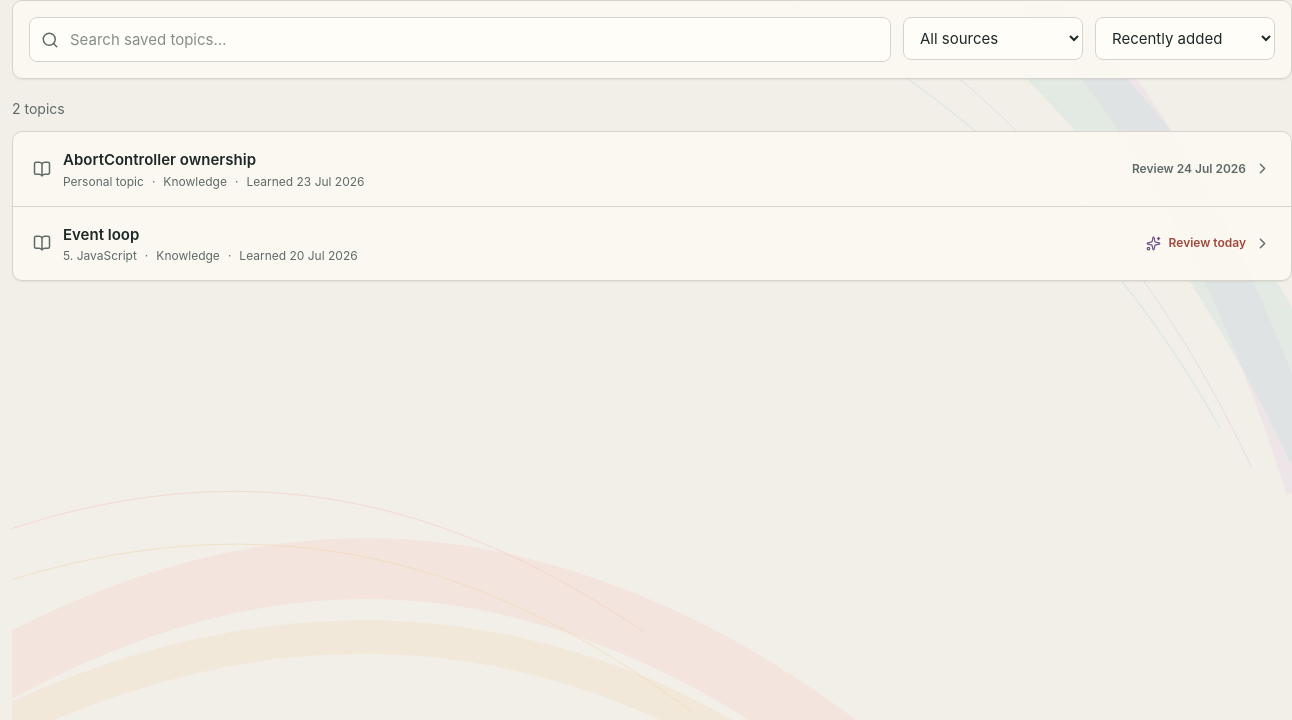
Test: TopicLibrary › searches saved topics independently of their source
The width and height of the screenshot is (1292, 720).
Type "event loop" into the field labelled "Search saved topics".
click(460, 40); type("event loop")  # box top-left (29, 17), bottom-right (891, 62)
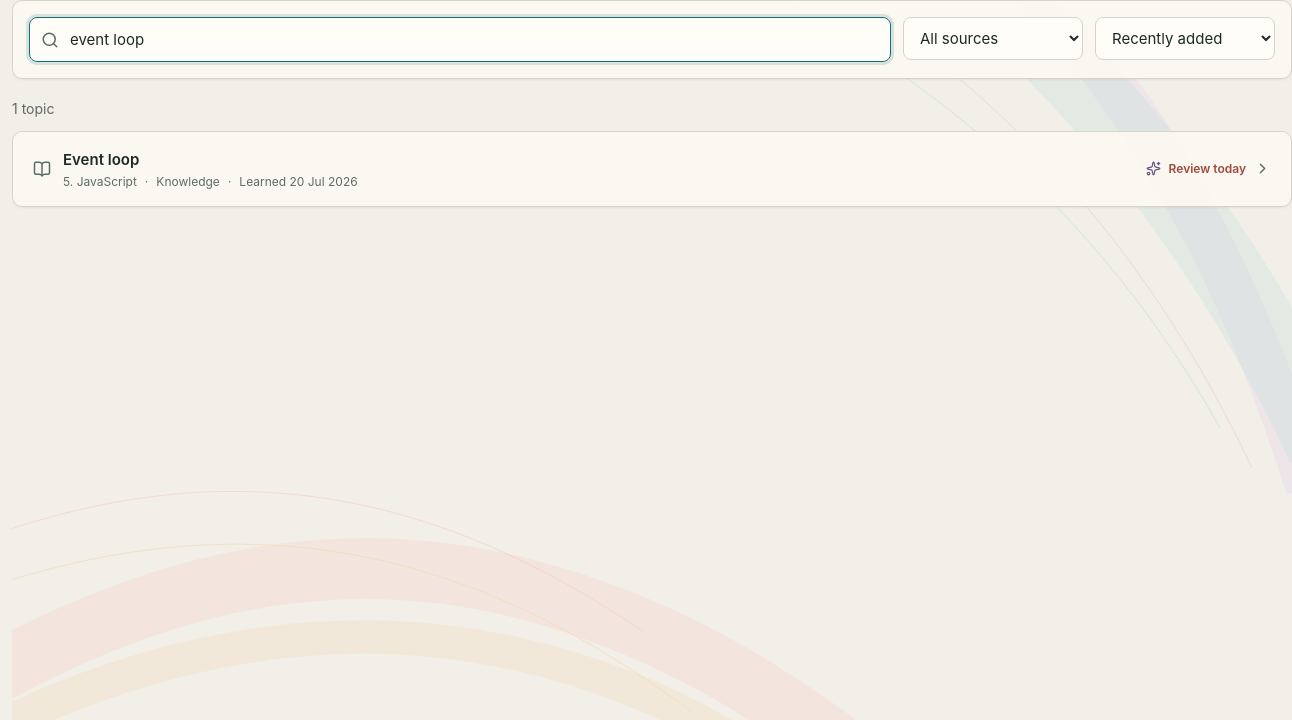
Expected: the link "Event loop" is shown, top-left (33, 150), bottom-right (1271, 189)
Result: the link "AbortController ownership" is gone
